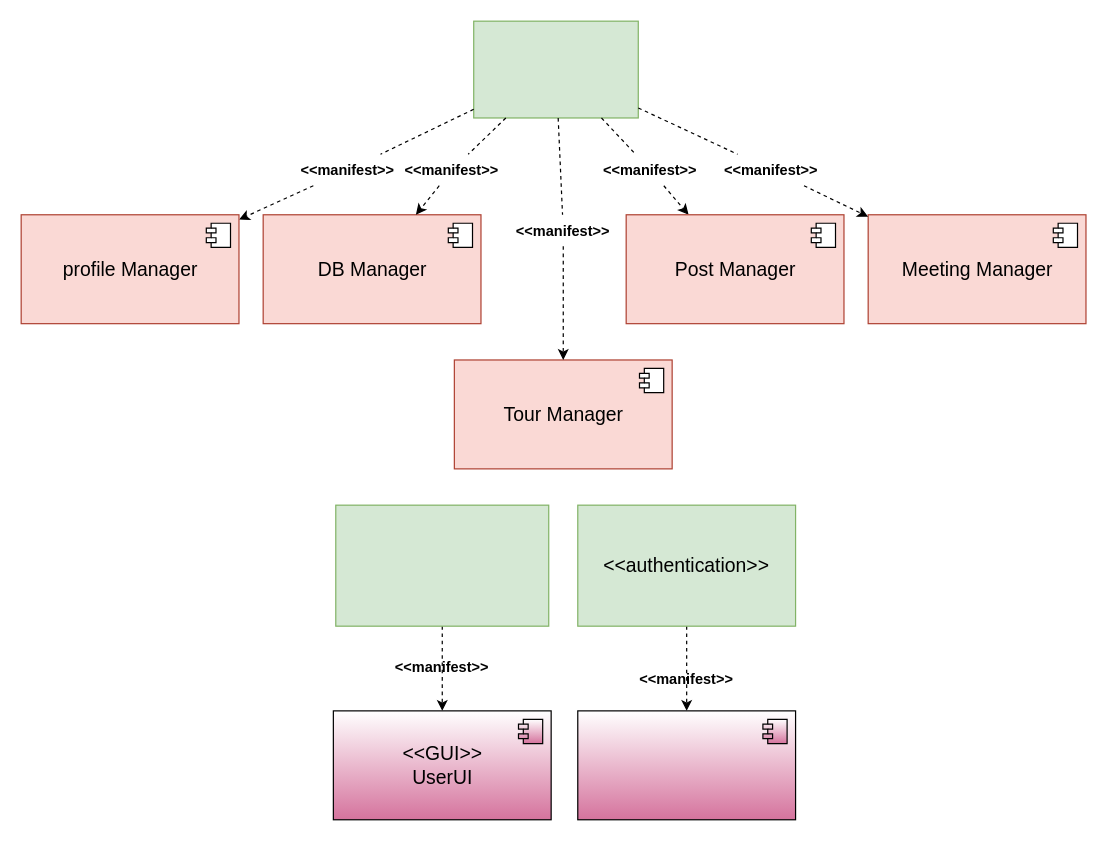
Some shapes in this 1107 by 841 pixel diagram are drawn without their labels. Here are the shapes that lost their labels. From the top down, the centre of each, then its label:
At (555,69): "<<appServer>> Firebase".
At (442,565): "<<application>> motor sport".
At (686,765): "User Repository".
